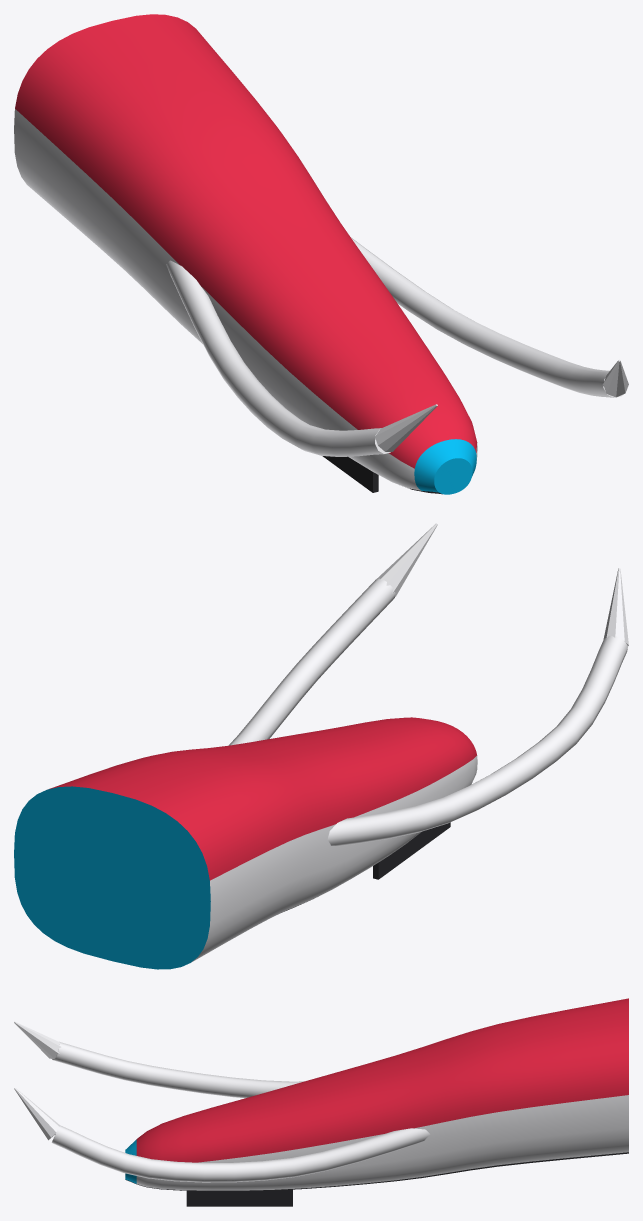
File: tusks.glb
3 renders of one model, top to bottom at view 1: azimuth 30°, elevation 25°; view 2: azimuth 150°, elevation 25°; view 3: azimuth 270°, elevation 25°, orthographic. The views are drawn at different scales.
Visible parts, largest first — view 1: Nose_tusks; view 2: Nose_tusks; view 3: Nose_tusks.
Part boxes in pixels (x1,y1,x2,y2): Nose_tusks: [14, 14, 628, 494]; Nose_tusks: [14, 523, 628, 969]; Nose_tusks: [14, 998, 628, 1206].
Bounding box in the file's own units: 0.588 × 0.485 × 1.5.
